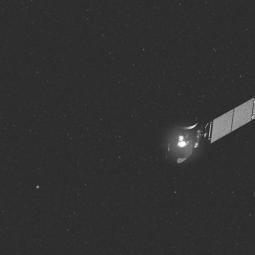earth_observation_sat_1: (152, 96, 255, 171)
